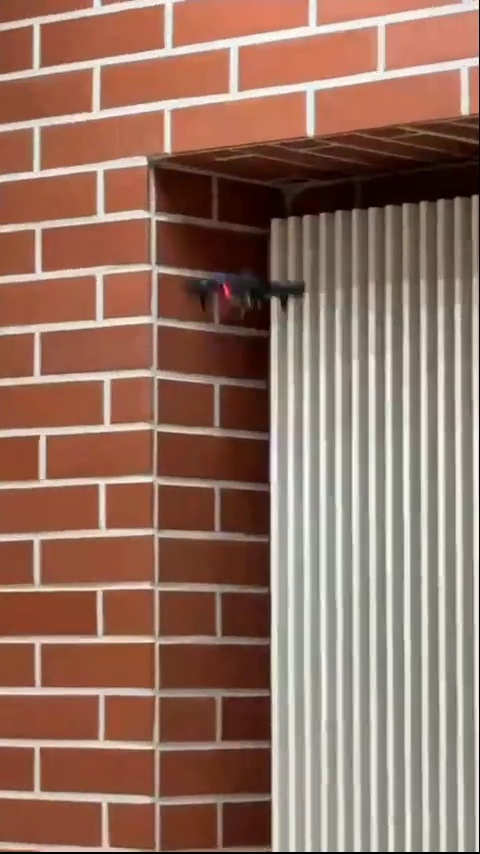drone: (186, 272, 312, 318)
